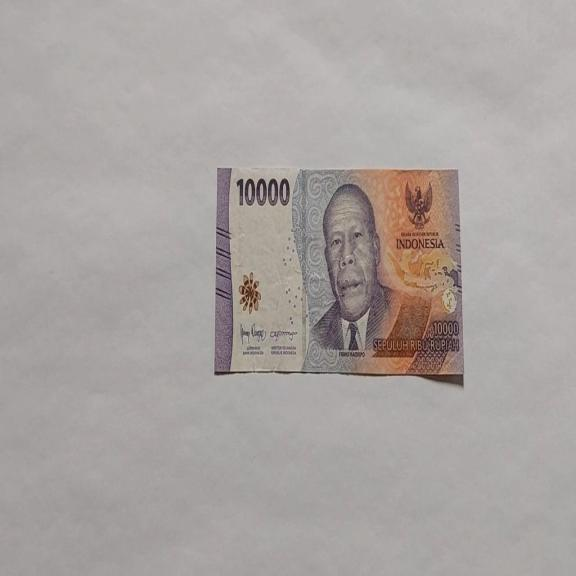Kertas: (214, 164, 464, 379), (235, 174, 291, 208)
